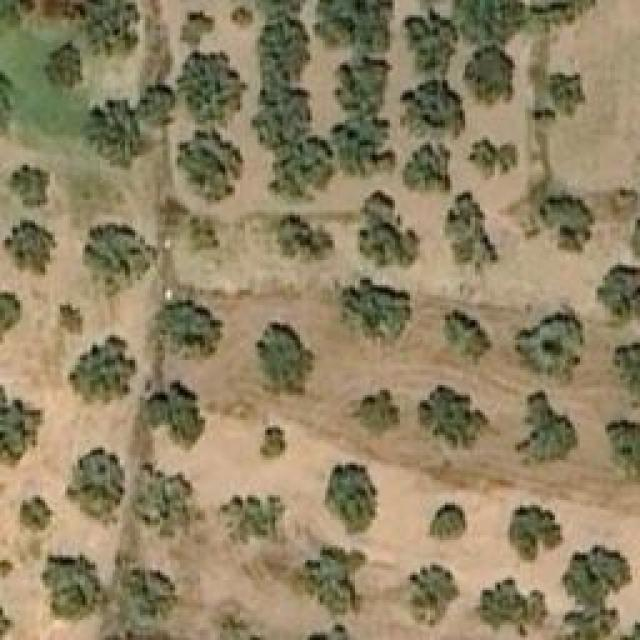Tree: (293, 545, 366, 620), (418, 385, 501, 450), (178, 50, 248, 125), (68, 335, 138, 408), (358, 190, 421, 270), (257, 323, 315, 406), (65, 448, 125, 528), (515, 390, 578, 465), (473, 575, 548, 638), (43, 555, 106, 625), (177, 130, 245, 193), (155, 300, 225, 358), (445, 190, 498, 263), (0, 385, 45, 470), (270, 138, 333, 198), (147, 380, 205, 445), (85, 100, 143, 163), (87, 225, 145, 288), (343, 278, 408, 333), (328, 463, 378, 533), (408, 563, 461, 628), (220, 495, 288, 545), (135, 468, 188, 531), (452, 0, 520, 48), (317, 0, 385, 48), (270, 215, 335, 265), (3, 220, 58, 278), (405, 82, 460, 140), (568, 547, 623, 605), (525, 315, 578, 375), (335, 113, 388, 173), (510, 502, 563, 560), (253, 90, 308, 145), (597, 265, 640, 330), (263, 20, 306, 85), (333, 55, 383, 108), (345, 390, 400, 438), (443, 308, 493, 358), (87, 0, 132, 52), (125, 567, 173, 615), (468, 138, 518, 183), (410, 15, 453, 65), (405, 140, 443, 193), (5, 165, 48, 210), (612, 340, 640, 408), (607, 419, 640, 472), (45, 43, 83, 88), (470, 53, 508, 98), (540, 200, 588, 235), (550, 70, 585, 115), (430, 502, 465, 540), (20, 495, 53, 530), (0, 0, 38, 25), (182, 13, 210, 46), (3, 290, 23, 335), (227, 8, 255, 33), (263, 428, 286, 458), (60, 305, 83, 333)
